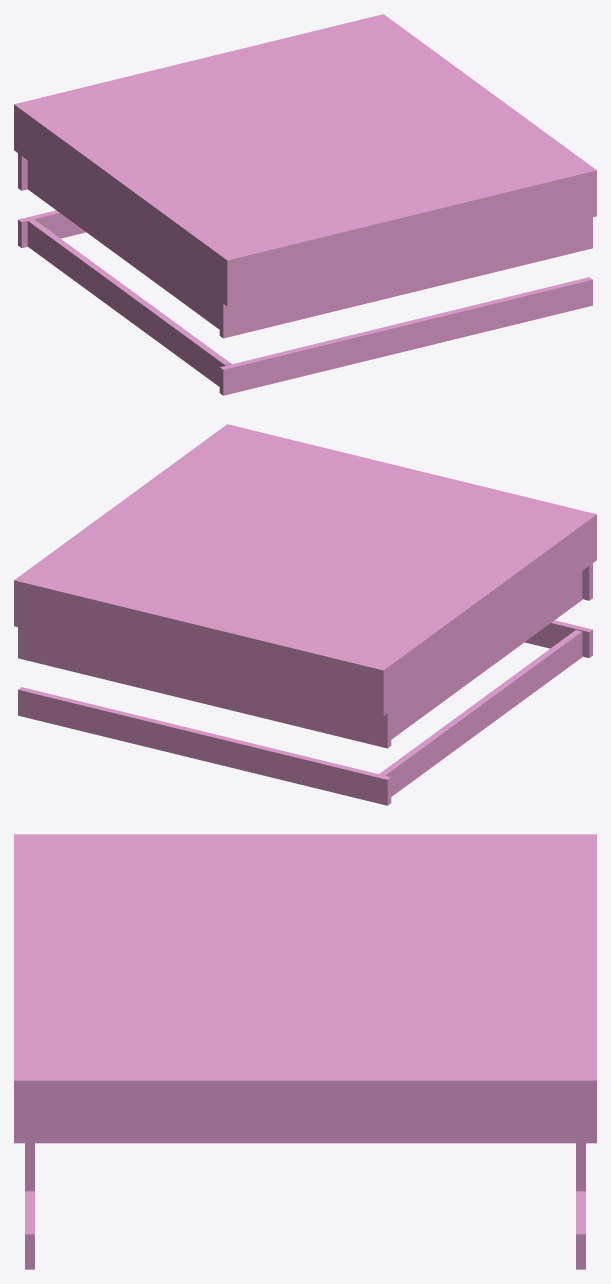
The model's file is crowsnest-roof.glb.
3 renders of one model, top to bottom at view 1: azimuth 30°, elevation 25°; view 2: azimuth 150°, elevation 25°; view 3: azimuth 270°, elevation 25°, orthographic. The views are drawn at different scales.
Parts seen in each view (by area): view 1: S1|SM_Bunker_Roof_01A#0; view 2: S1|SM_Bunker_Roof_01A#0; view 3: S1|SM_Bunker_Roof_01A#0.
Part boxes in pixels (<box>): S1|SM_Bunker_Roof_01A#0: <box>14,14,596,395</box>; S1|SM_Bunker_Roof_01A#0: <box>14,424,596,805</box>; S1|SM_Bunker_Roof_01A#0: <box>14,834,596,1269</box>.
Bounding box in the file's own units: 6 × 2.14 × 6.
